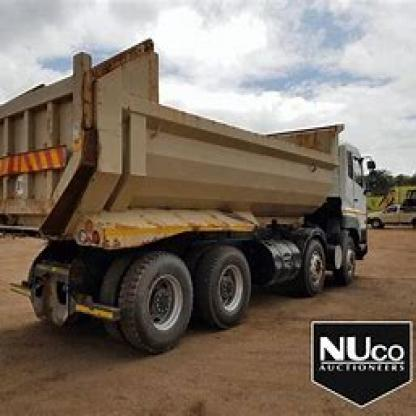dump_truck: (10, 34, 376, 353)
